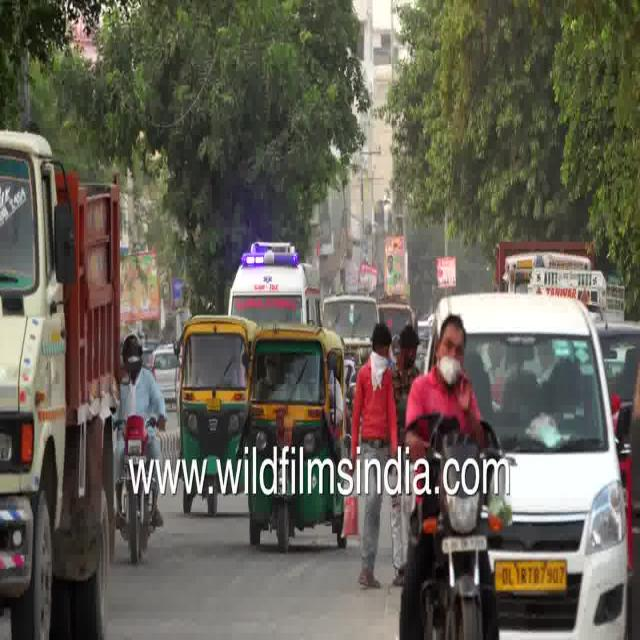ambulance: (210, 221, 325, 326)
